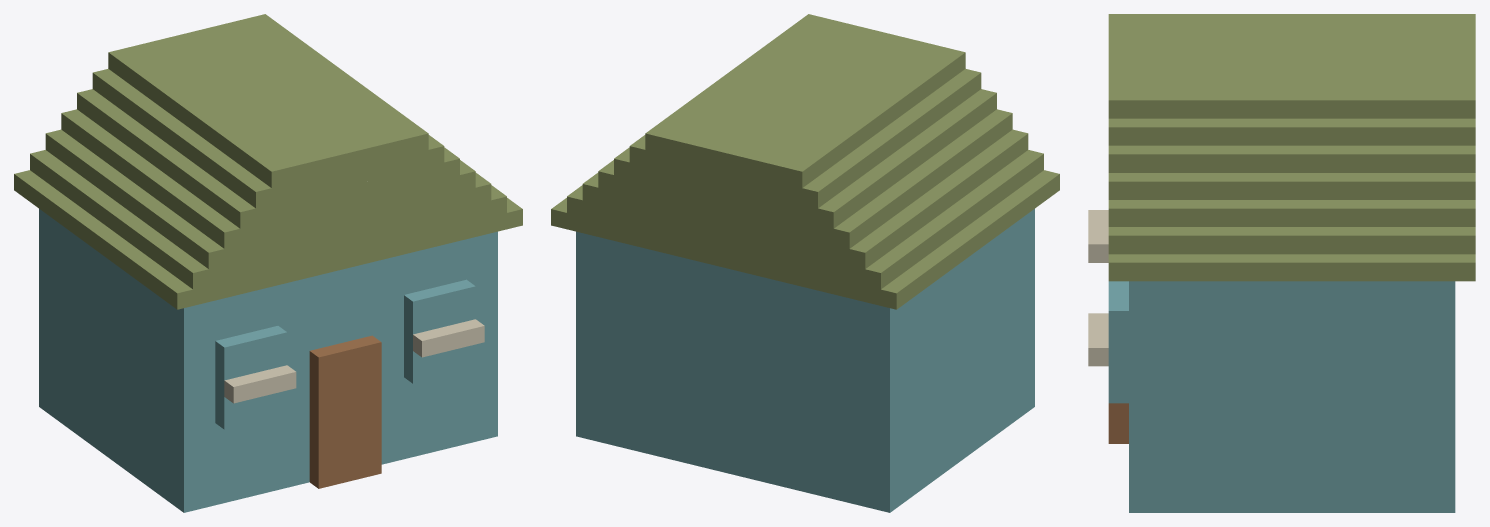
File: agriculture-05.glb
3 views of the same model, side by side, from view 1: azimuth 30°, elevation 25°; view 2: azimuth 150°, elevation 25°; view 3: azimuth 270°, elevation 25° (orthographic). The views are drawn at different scales.
Visible parts, largest first — view 1: Greenhouse; view 2: Greenhouse; view 3: Greenhouse.
Boxes of the visible parts, <box> form: Greenhouse: <box>14,14,522,512</box>; Greenhouse: <box>551,14,1059,512</box>; Greenhouse: <box>1088,14,1475,512</box>.
Size of the model in its own units: 1.76 by 1.6 by 1.52.
